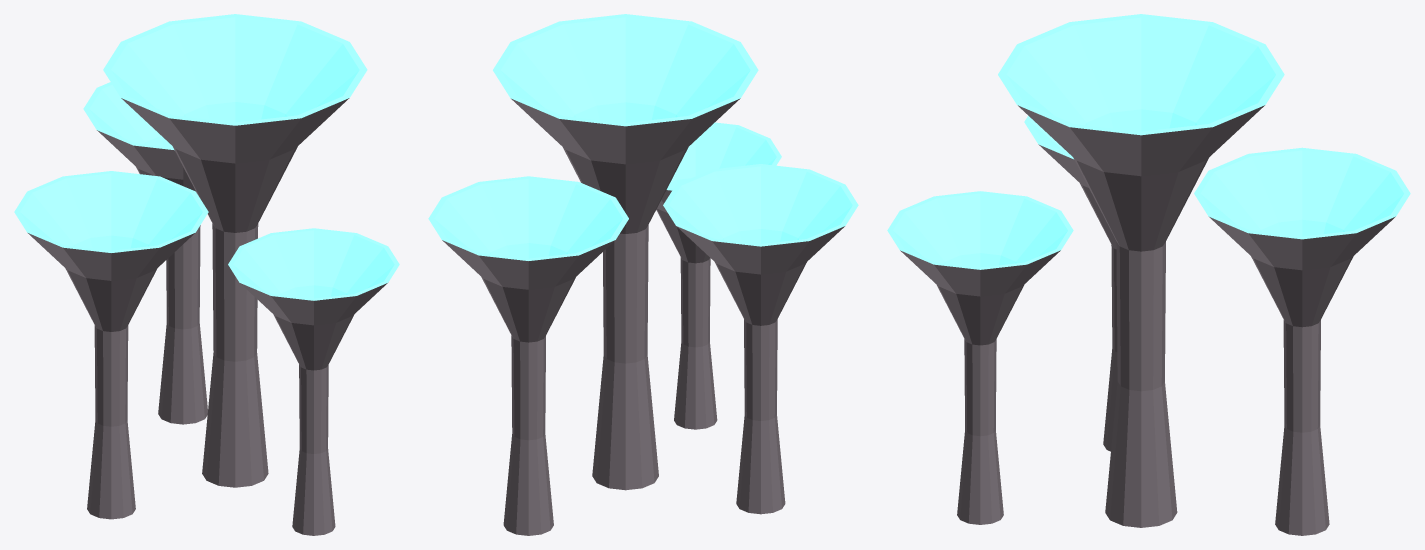
File: trumpet_v03.glb
The picture shows the model from 3 angles, left to right: view 1: azimuth 30°, elevation 25°; view 2: azimuth 150°, elevation 25°; view 3: azimuth 270°, elevation 25°; orthographic projection. The views are drawn at different scales.
Visible parts, largest first — view 1: mushroom_trumpet_flesh_nocol, mushroom_trumpet_glow_nocol; view 2: mushroom_trumpet_flesh_nocol, mushroom_trumpet_glow_nocol; view 3: mushroom_trumpet_flesh_nocol, mushroom_trumpet_glow_nocol.
Boxes of the visible parts, x1,y1,x2,y2 form: mushroom_trumpet_flesh_nocol: (28,98,387,535); mushroom_trumpet_glow_nocol: (14,14,399,300); mushroom_trumpet_flesh_nocol: (442,98,844,535); mushroom_trumpet_glow_nocol: (428,14,858,260); mushroom_trumpet_flesh_nocol: (900,105,1395,535); mushroom_trumpet_glow_nocol: (887,14,1410,269).
Bounding box in the file's own units: 1.52 × 1.79 × 1.94.
